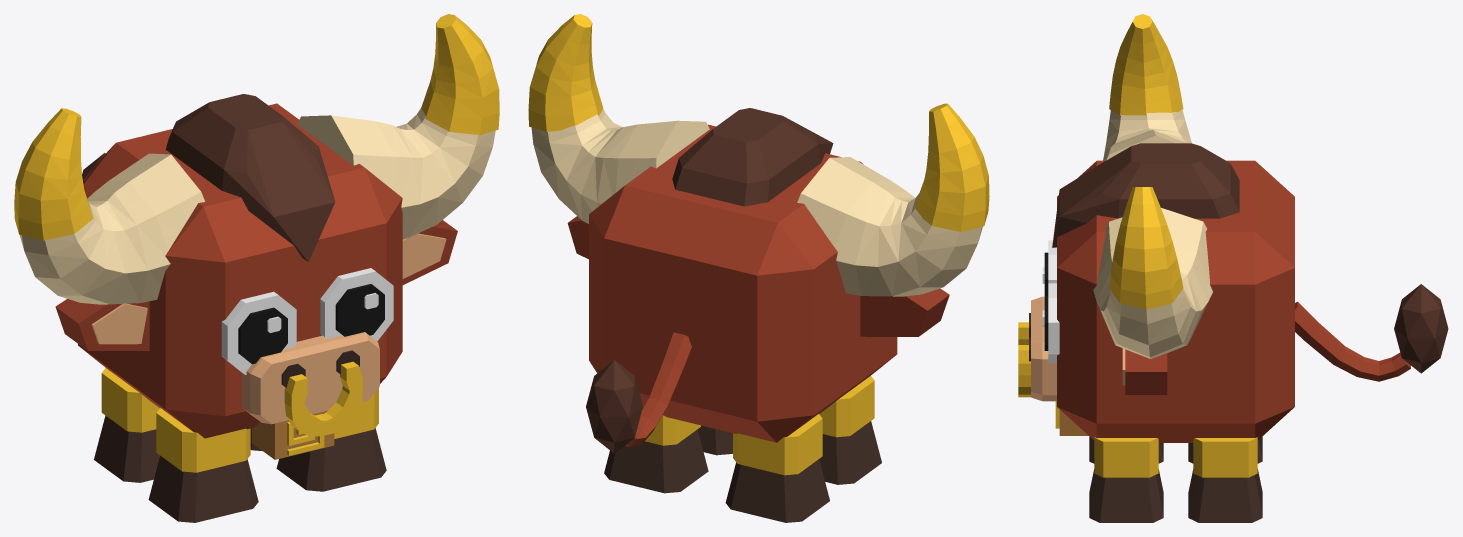
File: Minotaur.fbx
3 renders of one model, left to right at view 1: azimuth 30°, elevation 25°; view 2: azimuth 150°, elevation 25°; view 3: azimuth 270°, elevation 25°, orthographic. The views are drawn at different scales.
Parts seen in each view (by area): view 1: Minotaur, Minotaur_Horns, Minotaur_Tuft, Minotaur_HornTips, Minotaur_Hooves, Minotaur_Snout, Minotaur_Cuffs, Minotaur_Eyes, Minotaur_Pupils, Minotaur_Ears, Minotaur_Ring, Minotaur_EarInner (+3 smaller); view 2: Minotaur, Minotaur_Horns, Minotaur_HornTips, Minotaur_Hooves, Minotaur_Tuft, Minotaur_Cuffs, Minotaur_Ears, Minotaur_TailTuft, Minotaur_Tail; view 3: Minotaur, Minotaur_HornTips, Minotaur_Horns, Minotaur_Tuft, Minotaur_Hooves, Minotaur_Cuffs, Minotaur_TailTuft, Minotaur_Tail, Minotaur_Snout, Minotaur_Ears, Minotaur_Eyes, Minotaur_Ring (+1 smaller).
Boxes of the visible parts, bbox=[...] form: Minotaur: bbox=[78, 103, 402, 438]; Minotaur_Horns: bbox=[19, 108, 495, 304]; Minotaur_Tuft: bbox=[165, 94, 335, 261]; Minotaur_HornTips: bbox=[14, 14, 499, 240]; Minotaur_Hooves: bbox=[94, 415, 386, 522]; Minotaur_Snout: bbox=[242, 332, 379, 424]; Minotaur_Cuffs: bbox=[101, 368, 378, 472]; Minotaur_Eyes: bbox=[221, 268, 393, 374]; Minotaur_Pupils: bbox=[238, 284, 384, 364]; Minotaur_Ears: bbox=[55, 220, 457, 350]; Minotaur_Ring: bbox=[284, 361, 362, 436]; Minotaur_EarInner: bbox=[91, 233, 446, 344]; Minotaur: bbox=[589, 124, 897, 442]; Minotaur_Horns: bbox=[531, 109, 982, 296]; Minotaur_HornTips: bbox=[528, 14, 989, 231]; Minotaur_Hooves: bbox=[604, 421, 881, 522]; Minotaur_Tuft: bbox=[672, 108, 833, 206]; Minotaur_Cuffs: bbox=[645, 376, 874, 475]; Minotaur_Ears: bbox=[567, 216, 949, 336]; Minotaur_TailTuft: bbox=[586, 360, 642, 453]; Minotaur_Tail: bbox=[625, 332, 691, 446]; Minotaur: bbox=[1057, 160, 1294, 442]; Minotaur_HornTips: bbox=[1109, 14, 1183, 309]; Minotaur_Horns: bbox=[1093, 110, 1212, 358]; Minotaur_Tuft: bbox=[1052, 143, 1239, 247]; Minotaur_Hooves: bbox=[1089, 436, 1262, 522]; Minotaur_Cuffs: bbox=[1094, 437, 1257, 477]; Minotaur_TailTuft: bbox=[1394, 284, 1448, 373]; Minotaur_Tail: bbox=[1295, 301, 1410, 381]; Minotaur_Snout: bbox=[1031, 296, 1056, 401]; Minotaur_Ears: bbox=[1125, 349, 1167, 394]; Minotaur_Eyes: bbox=[1042, 240, 1059, 363]; Minotaur_Ring: bbox=[1018, 322, 1030, 397].
Bounding box in the file's own units: 4.03 × 3.35 × 3.47.
